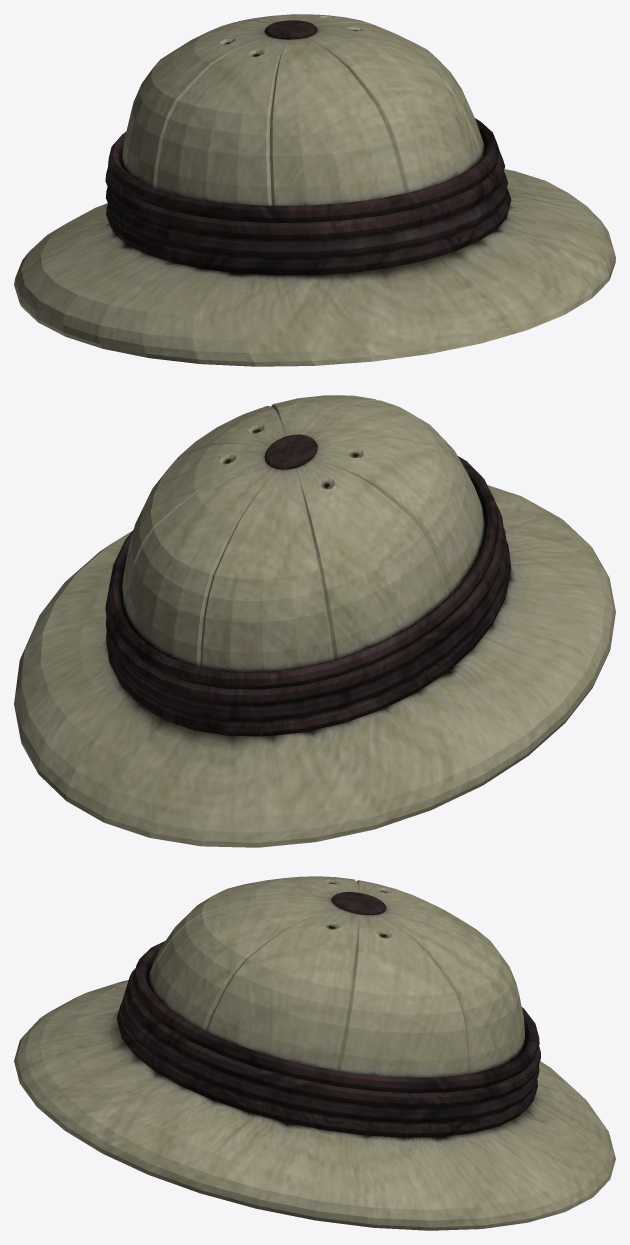
File: mhw_drednicolson_pith_helmet.glb
The picture shows the model from 3 angles, top to bottom: view 1: azimuth 30°, elevation 25°; view 2: azimuth 150°, elevation 25°; view 3: azimuth 270°, elevation 25°; orthographic projection. The views are drawn at different scales.
Parts seen in each view (by area): view 1: mhw_drednicolson_pith_helmet; view 2: mhw_drednicolson_pith_helmet; view 3: mhw_drednicolson_pith_helmet.
Boxes of the visible parts, bbox=[...] form: mhw_drednicolson_pith_helmet: bbox=[14, 14, 615, 366]; mhw_drednicolson_pith_helmet: bbox=[14, 395, 615, 847]; mhw_drednicolson_pith_helmet: bbox=[14, 876, 615, 1230].
Size of the model in its own units: 0.3385 by 0.1856 by 0.3867.
Materials: 1 (1 with a texture image).
